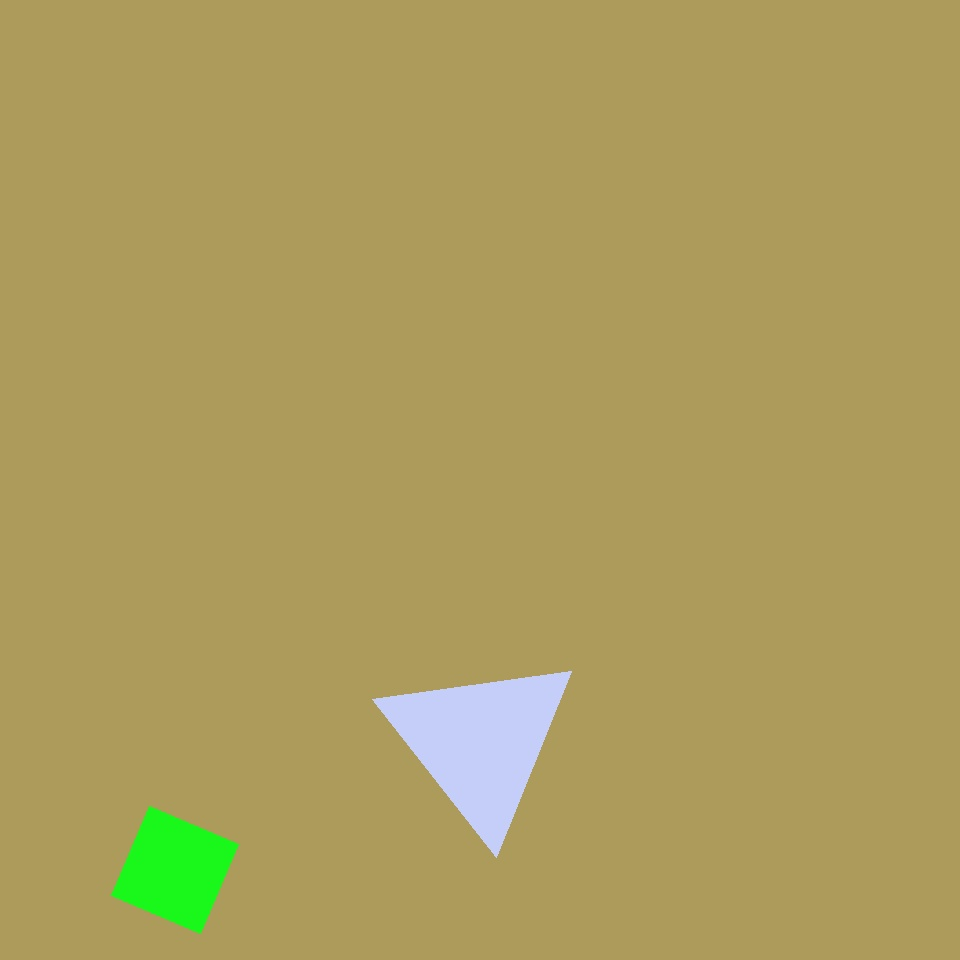circle: (380, 650, 580, 836)
square: (370, 427, 567, 625), (610, 145, 765, 300), (111, 806, 238, 934)
